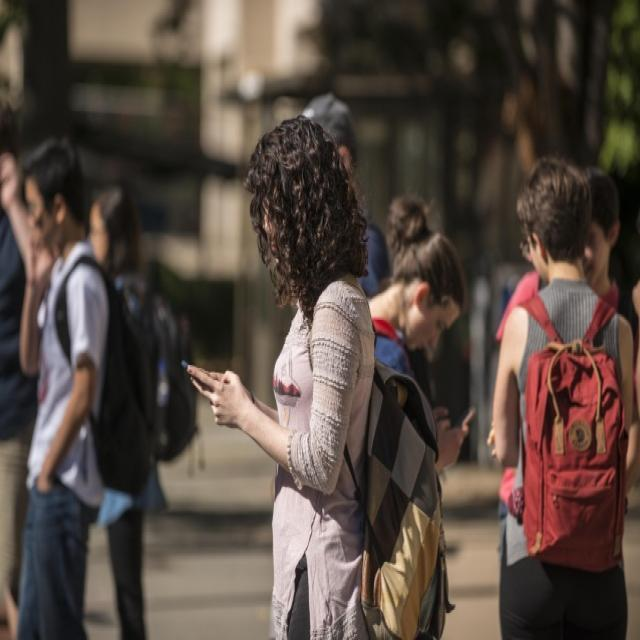body: (180, 112, 380, 638), (10, 127, 161, 638), (482, 148, 639, 638), (490, 161, 636, 638), (87, 183, 198, 640), (362, 189, 481, 478), (1, 112, 39, 640), (299, 90, 394, 301), (624, 267, 640, 518)
